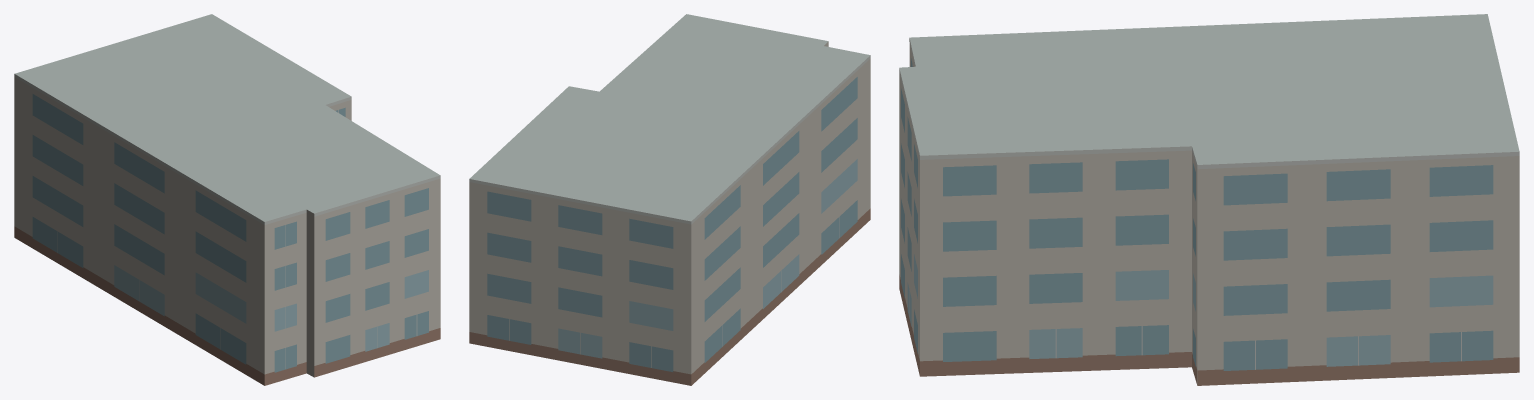
Rendered from survey-upis-32629425.glb.
3 renders of one model, left to right at view 1: azimuth 30°, elevation 25°; view 2: azimuth 150°, elevation 25°; view 3: azimuth 270°, elevation 25°, orthographic. The views are drawn at different scales.
Parts seen in each view (by area): view 1: survey-upis-32629425.tmp; view 2: survey-upis-32629425.tmp; view 3: survey-upis-32629425.tmp.
Boxes of the visible parts, x1,y1,x2,y2 form: survey-upis-32629425.tmp: [14, 14, 440, 385]; survey-upis-32629425.tmp: [469, 14, 870, 385]; survey-upis-32629425.tmp: [899, 14, 1519, 385].
Bounding box in the file's own units: 18.78 × 12.8 × 32.59.
